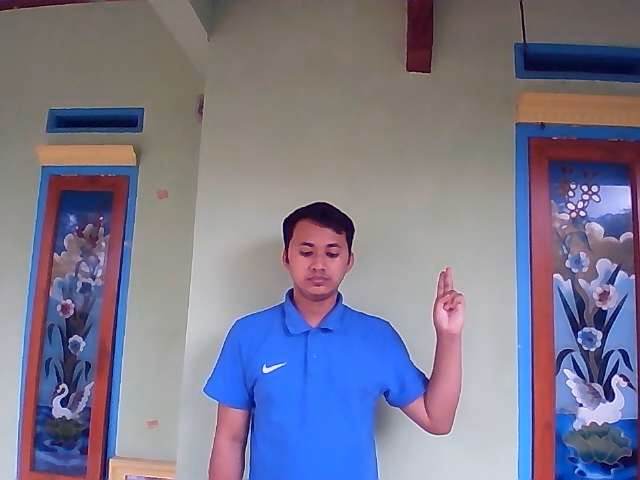U: (431, 265, 467, 335)
